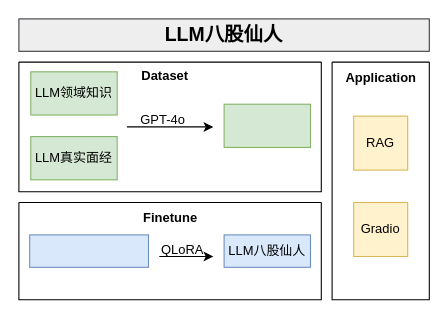
The diagram is 448 pixels wide and 319 high, and some of its shapes have lost their labels. Here are the shapes that lost their labels. From the top down, the box of each, then its label:
(223, 103, 310, 147): 高价值QA对
(29, 234, 148, 267): InternLM2-Chat-7B
